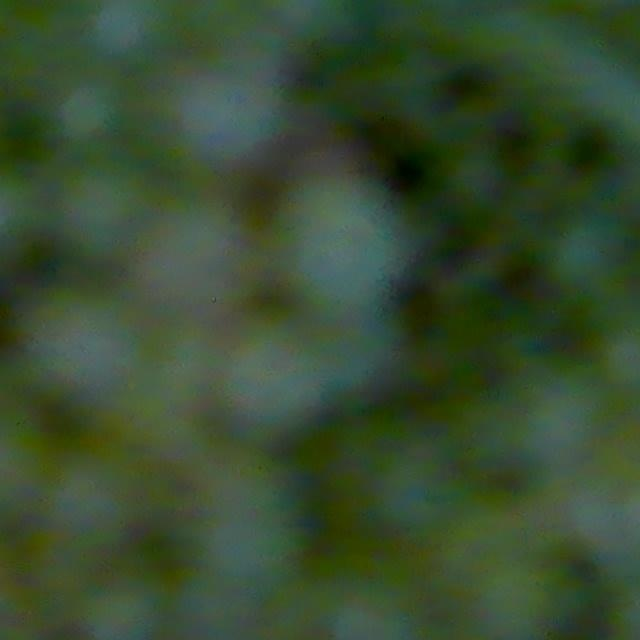SeaGrape: (267, 166, 403, 315), (127, 189, 249, 321), (31, 288, 143, 413), (39, 155, 156, 267), (219, 319, 320, 434), (479, 396, 617, 475), (27, 462, 127, 563), (372, 433, 465, 512), (476, 571, 579, 640), (52, 63, 135, 146), (327, 571, 424, 640), (545, 217, 626, 298), (84, 0, 177, 66), (77, 576, 167, 640)
